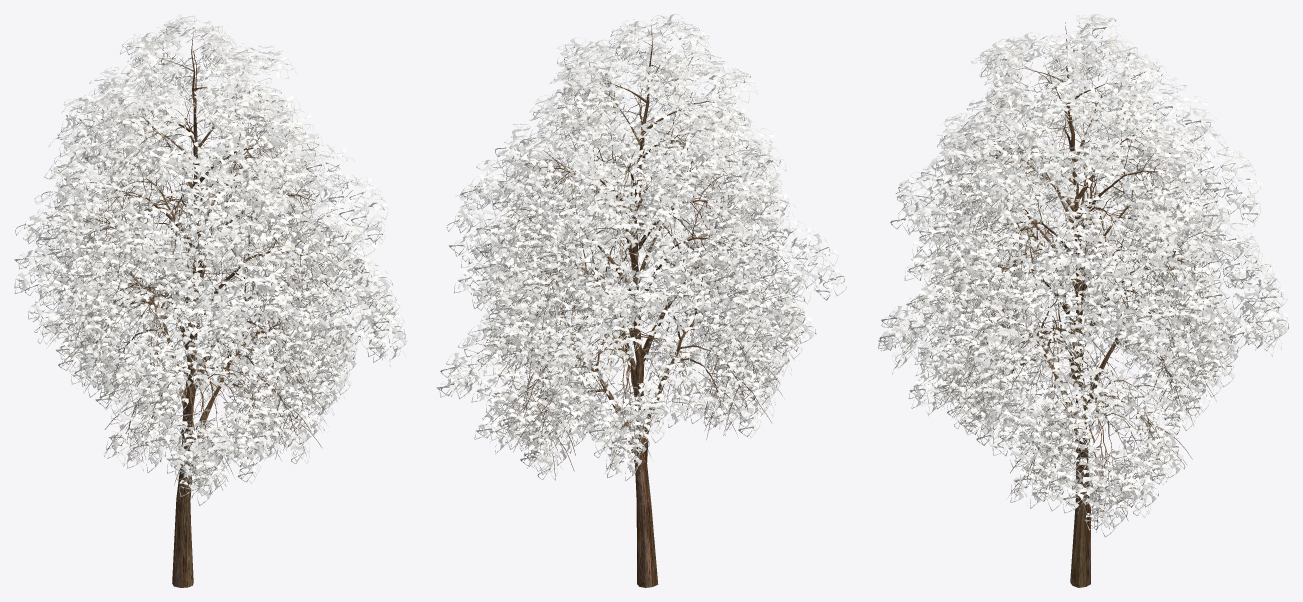
Rendered from tree.fbx.
3 renders of one model, left to right at view 1: azimuth 30°, elevation 25°; view 2: azimuth 150°, elevation 25°; view 3: azimuth 270°, elevation 25°, orthographic.
Parts seen in each view (by area): view 1: sub01, sub02; view 2: sub01, sub02; view 3: sub01, sub02.
Part boxes in pixels (<box>): sub01: <box>14,14,388,587</box>; sub02: <box>28,132,407,505</box>; sub01: <box>446,14,808,587</box>; sub02: <box>436,104,848,480</box>; sub01: <box>890,14,1262,587</box>; sub02: <box>878,135,1288,537</box>.
Bounding box in the file's own units: 7.24 × 11.3 × 7.46.
